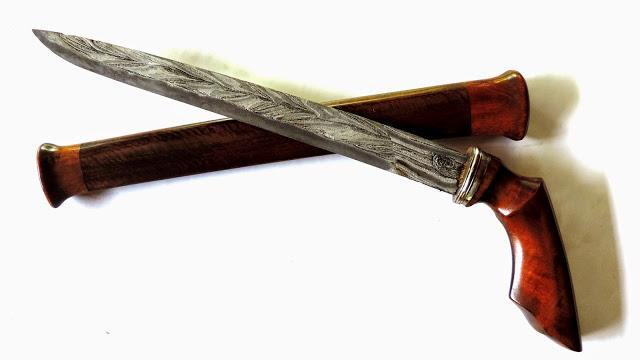facao: (11, 9, 624, 360)
